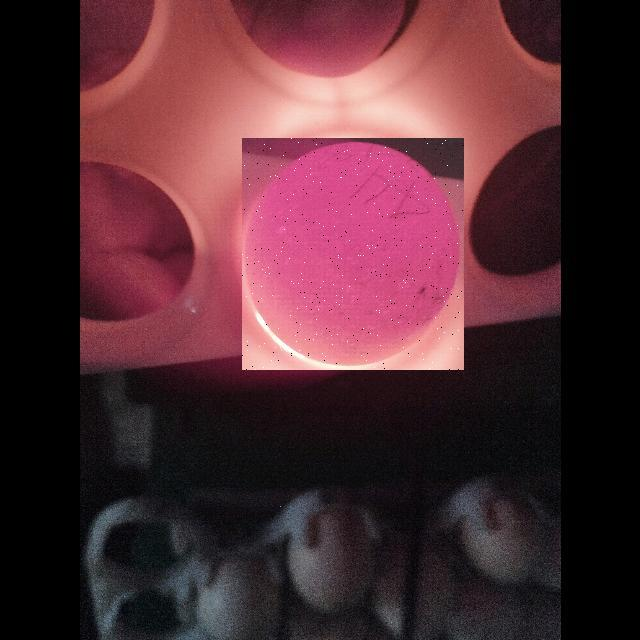Infertile: (242, 138, 464, 370)
